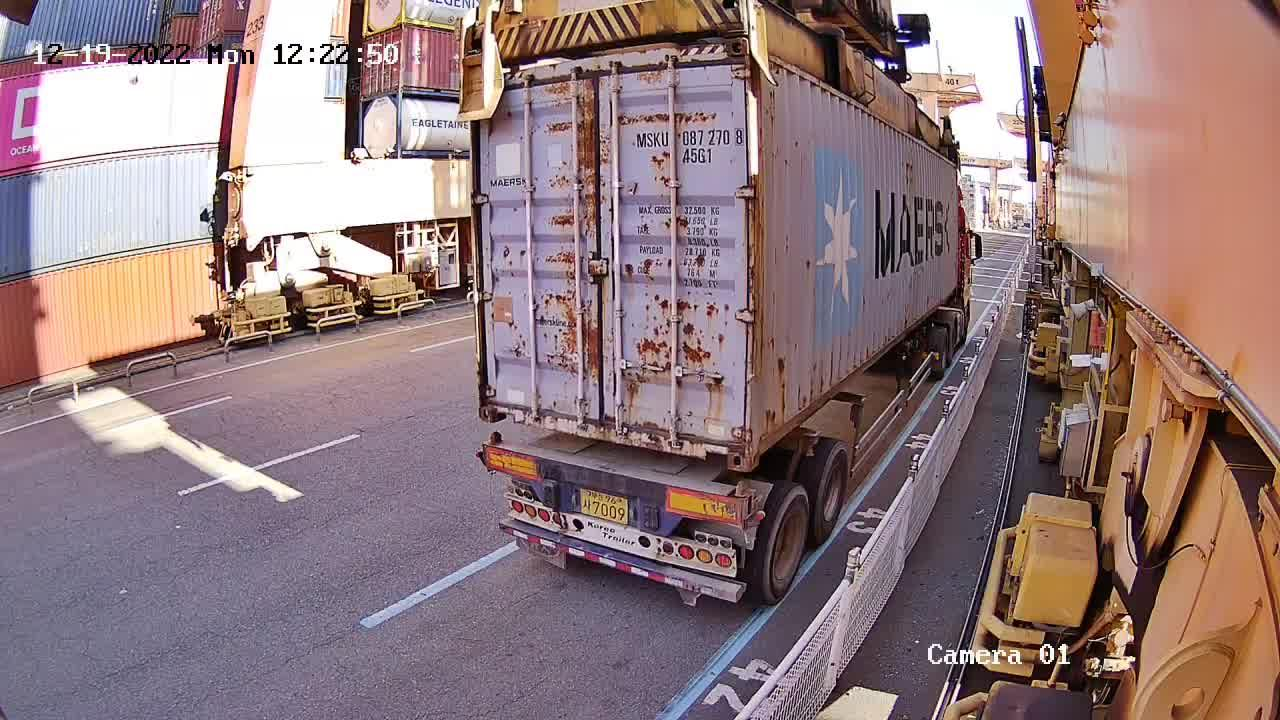Chassis: (484, 438, 761, 536)
Cone: (729, 481, 757, 517), (483, 430, 504, 460)
Hole_L: (479, 386, 514, 425)
Hole_R: (710, 427, 751, 470)
Tire: (766, 486, 810, 598), (814, 447, 850, 534)
